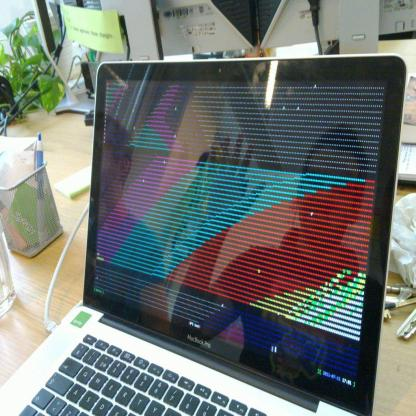board: (1, 52, 408, 416)
